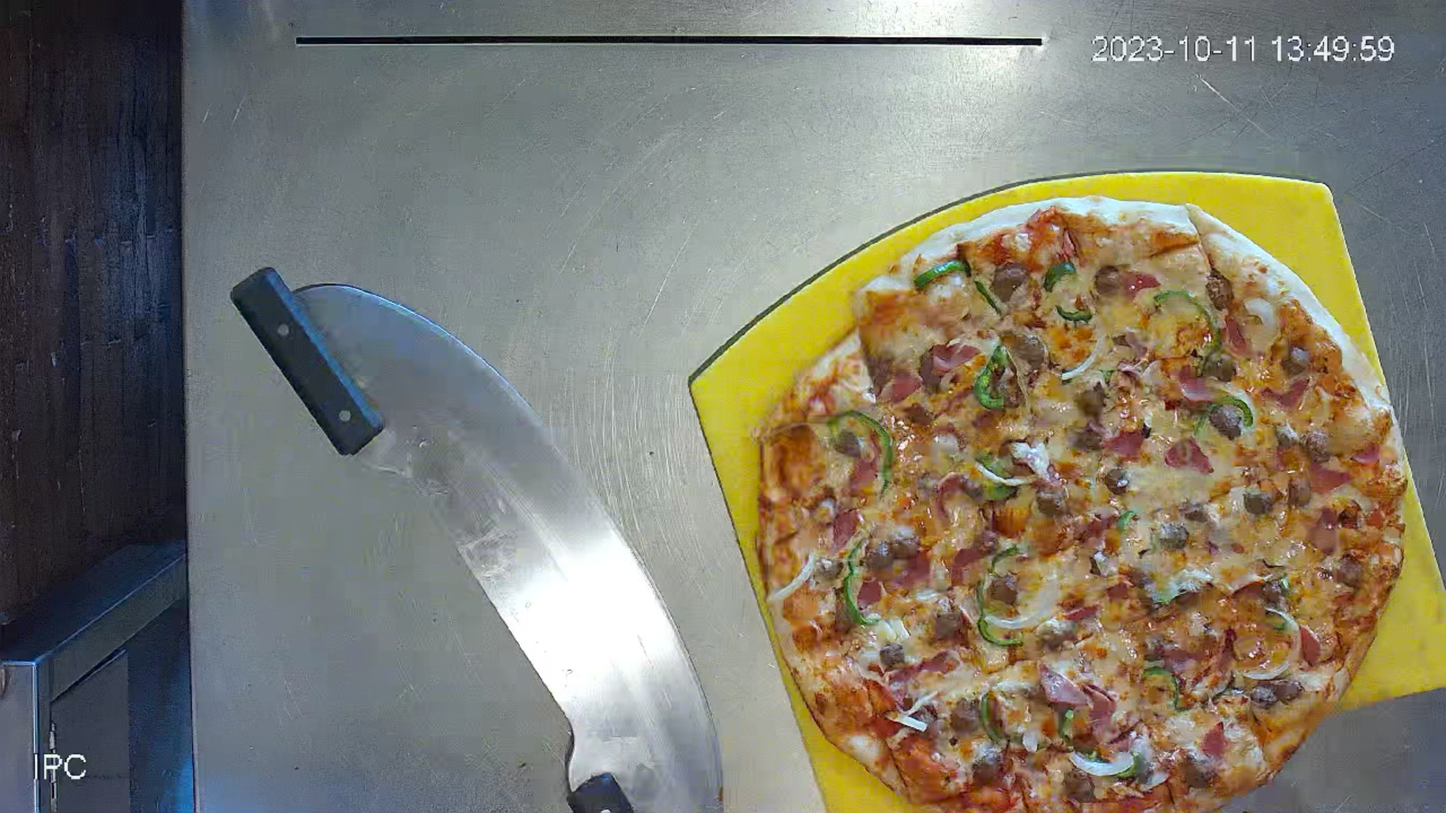manager_choice: (755, 197, 1410, 811)
